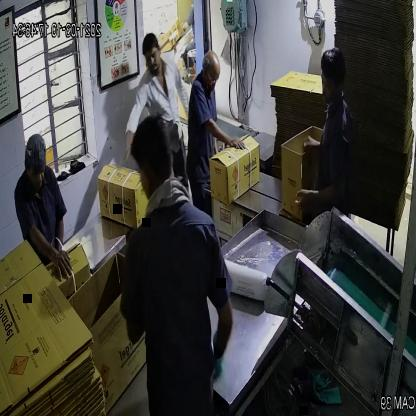no_glove: (25, 214, 75, 285), (292, 166, 347, 217), (198, 113, 247, 158), (122, 89, 145, 171)
